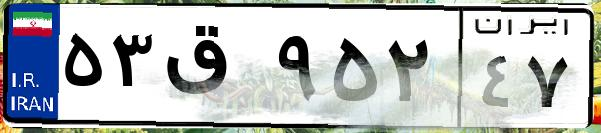2: (385, 28, 445, 110)
3: (110, 28, 158, 98)
4: (475, 38, 525, 113)
5: (330, 28, 385, 110), (57, 26, 110, 100)
7: (525, 38, 570, 115)
9: (270, 28, 330, 110)
ق: (158, 20, 270, 120)
